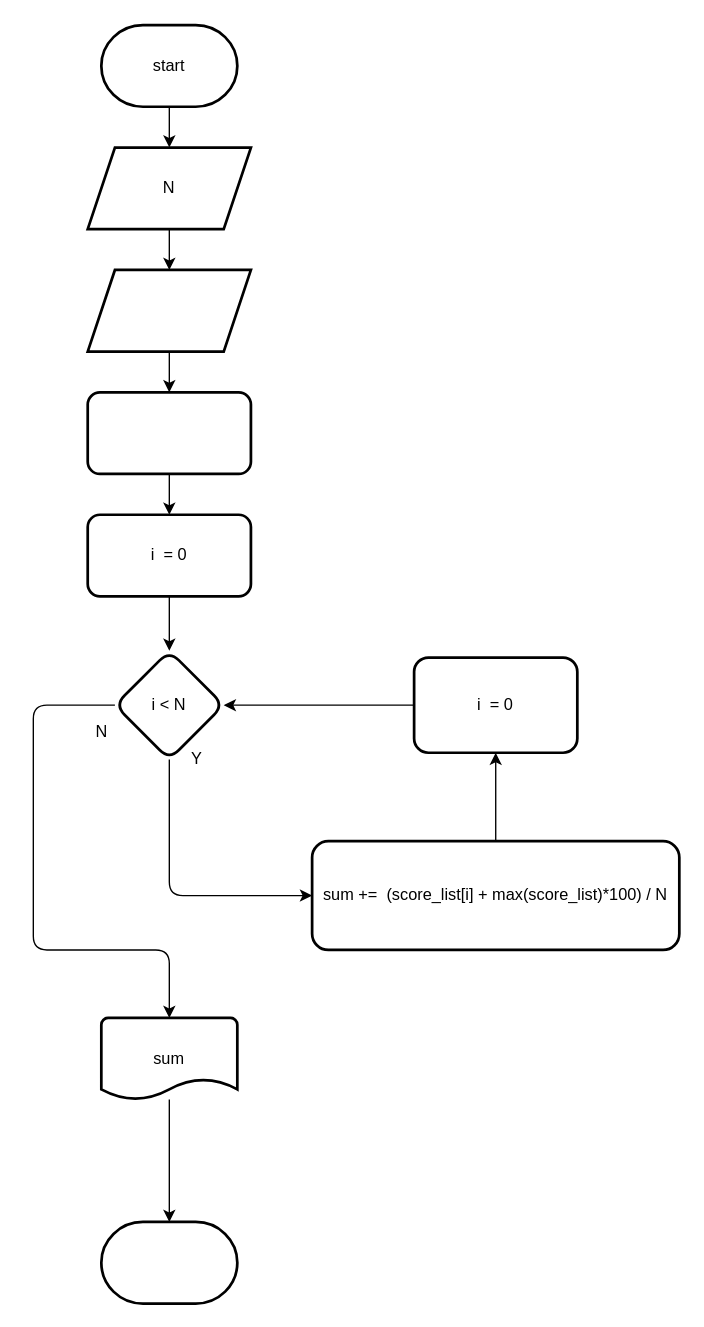
The diagram is 704 pixels wide and 1327 high, and some of its shapes have lost their labels. Here are the shapes that lost their labels. From the top down, the centre of each, then its label:
At pixel 169 310: "score_list".
At pixel 169 432: "sum = 0".
At pixel 168 1262: "finish".
